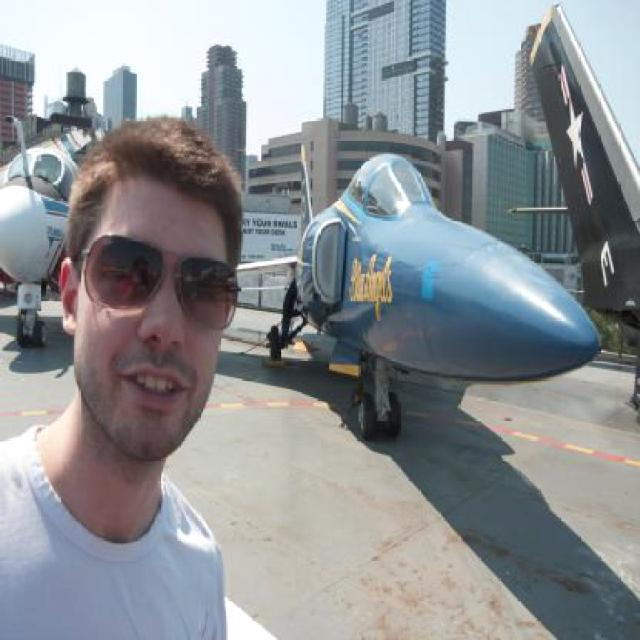face_nomask: (81, 231, 236, 426)
glasses: (67, 233, 236, 324)
head_nohelmet: (74, 117, 246, 218)
